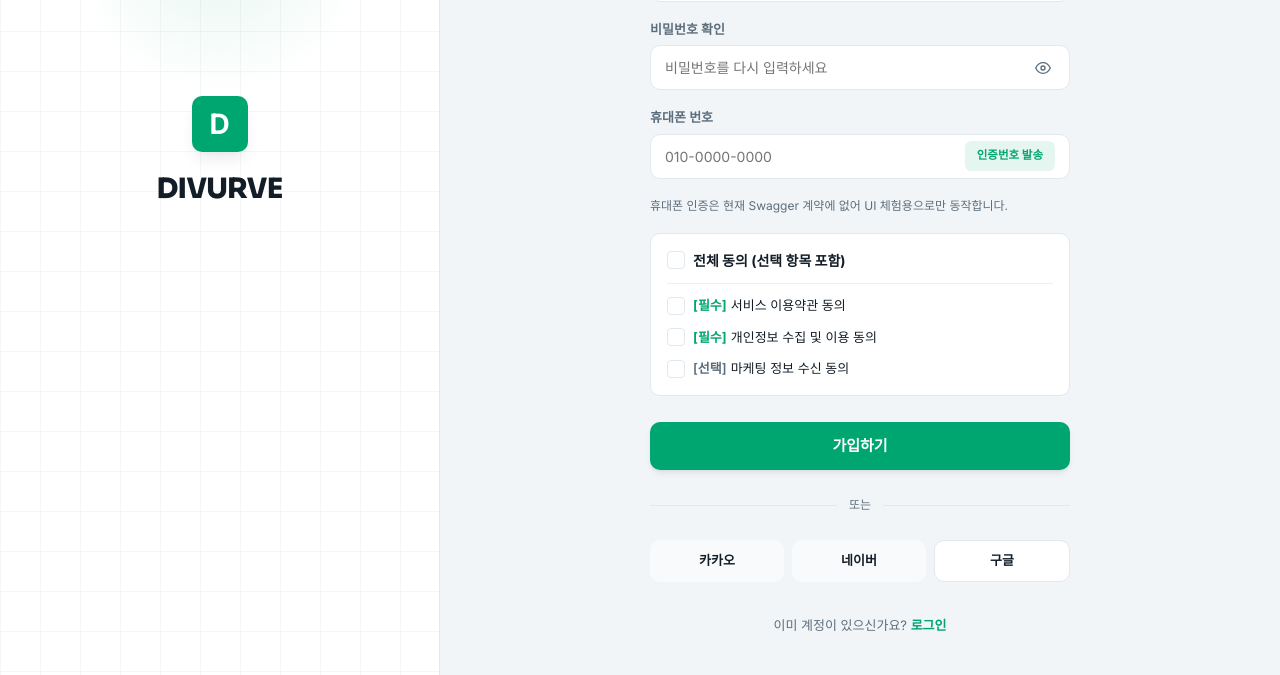
Scenario: AuthPage Component › 회원가입 폼에서 유효성 검사가 정확히 동작한다
(page scrolled)
Click the button "가입하기" at (860, 446), box [650,422,1070,470]
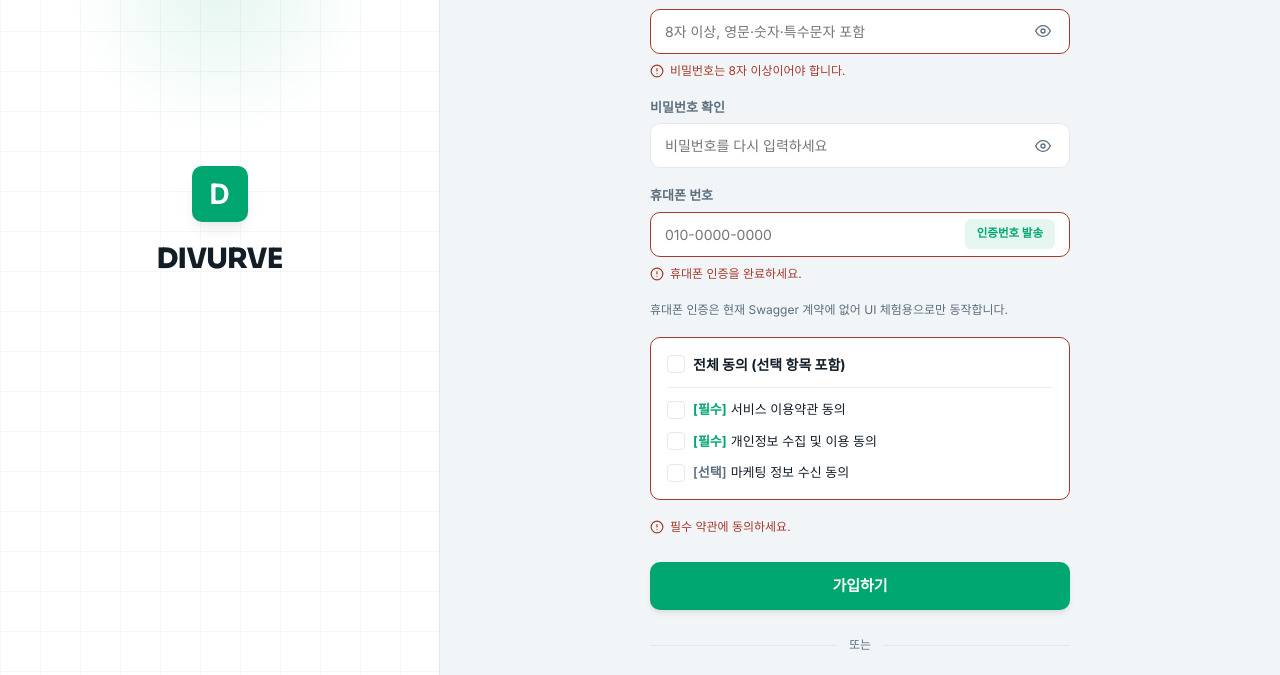
Check: the text "비밀번호는 8자 이상이어야 합니다." is shown, box [670,62,846,80]
Check: the text "휴대폰 인증을 완료하세요." is shown, box [670,264,802,282]
Check: the text "필수 약관에 동의하세요." is shown, box [670,518,791,536]
